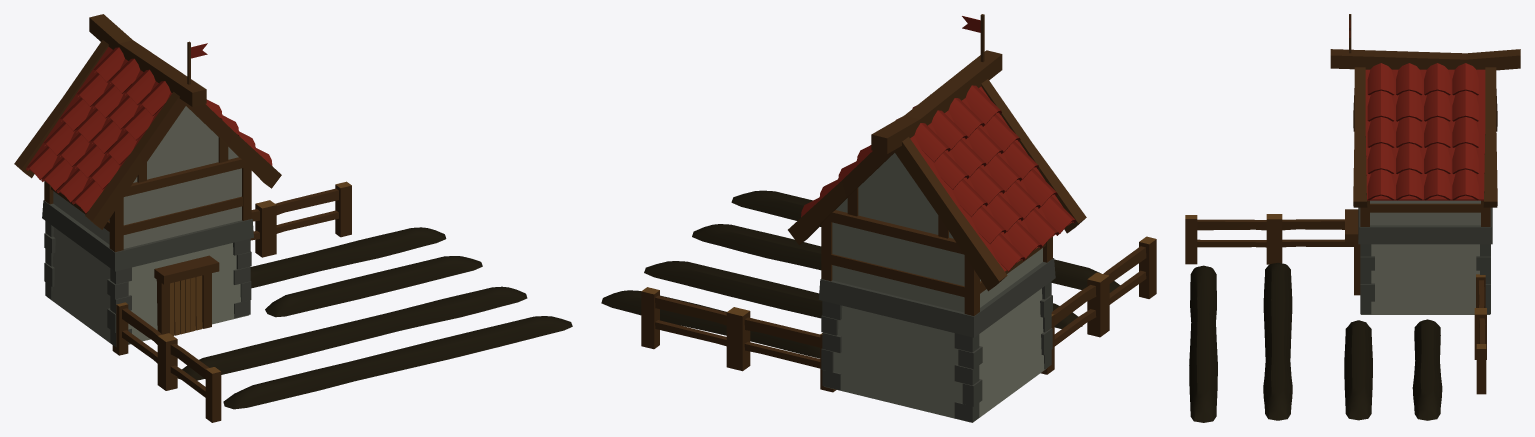
Rendered from Farm_SecondAge_Level2.obj.
3 renders of one model, left to right at view 1: azimuth 30°, elevation 25°; view 2: azimuth 150°, elevation 25°; view 3: azimuth 270°, elevation 25°, orthographic. The views are drawn at different scales.
Parts seen in each view (by area): view 1: Farm_SecondAge_Level2_Cube.129; view 2: Farm_SecondAge_Level2_Cube.129; view 3: Farm_SecondAge_Level2_Cube.129.
Part boxes in pixels (box(x1,y1,x2,y2)): Farm_SecondAge_Level2_Cube.129: box(14, 14, 572, 422); Farm_SecondAge_Level2_Cube.129: box(601, 14, 1156, 422); Farm_SecondAge_Level2_Cube.129: box(1185, 14, 1520, 422).
Size of the model in its own units: 1.83 by 1.31 by 1.45.
